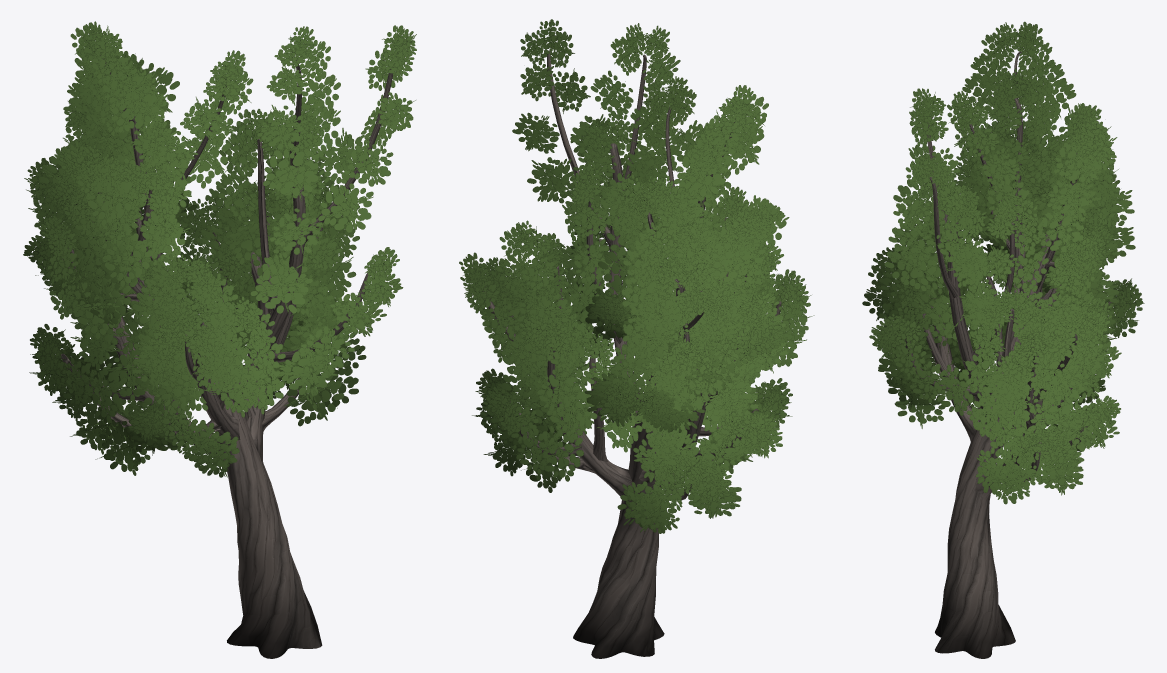
File: TwistedTree_2.gltf
The picture shows the model from 3 angles, left to right: view 1: azimuth 30°, elevation 25°; view 2: azimuth 150°, elevation 25°; view 3: azimuth 270°, elevation 25°; orthographic projection. The views are drawn at different scales.
Visible parts, largest first — view 1: TwistedTree_2; view 2: TwistedTree_2; view 3: TwistedTree_2.
Boxes of the visible parts, x1=… form: TwistedTree_2: x1=23, y1=21, x2=416, y2=658; TwistedTree_2: x1=459, y1=19, x2=814, y2=658; TwistedTree_2: x1=862, y1=21, x2=1144, y2=658.
Bounding box in the file's own units: 10.56 × 18.95 × 9.2.
2 materials, 2 textured.
